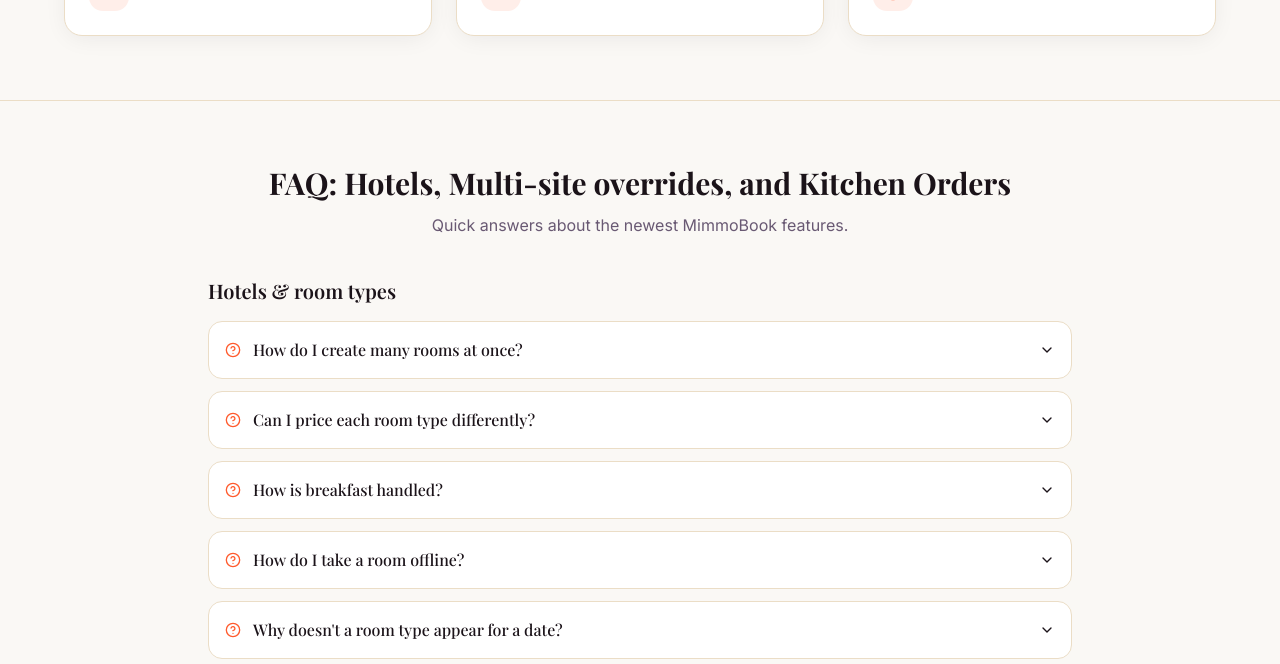
Test: Support FAQ accordion a11y › reveals the answer panel with role=region linked to its trigger when opened
(page scrolled)
Click the button "How do I create many rooms at once?".
click(388, 350)  # box [209,322,1071,378]
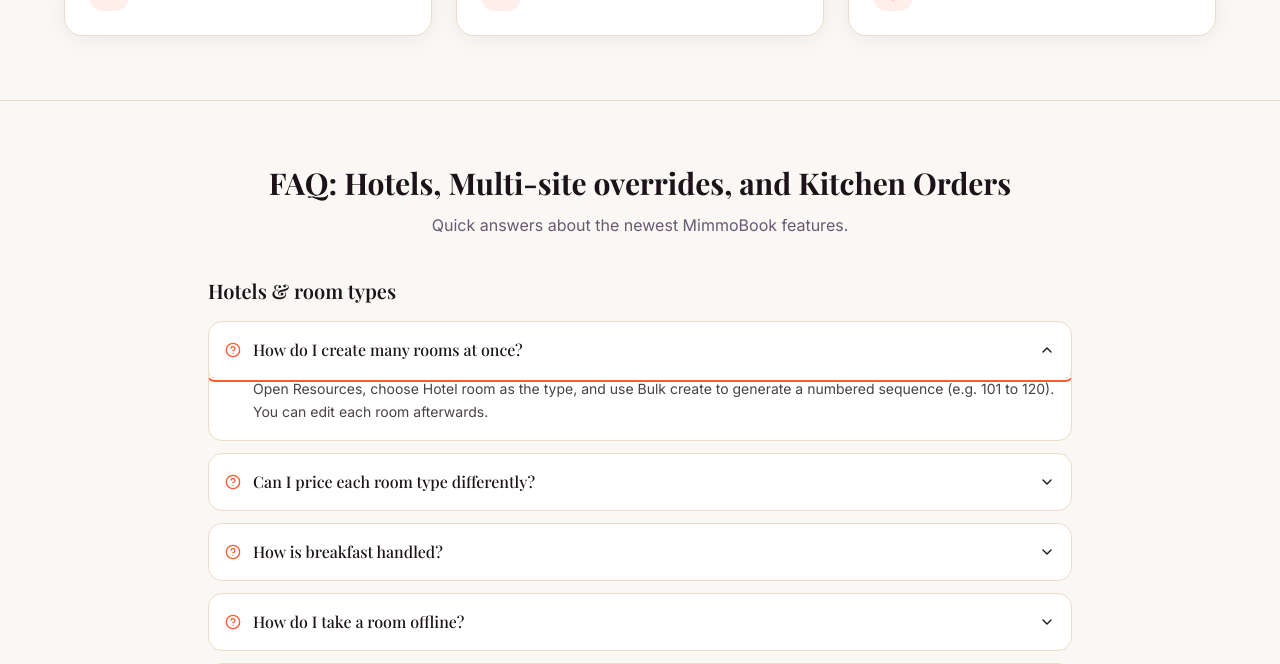
expect the text "Bulk create" is shown: met, box [253,380,1054,420]
